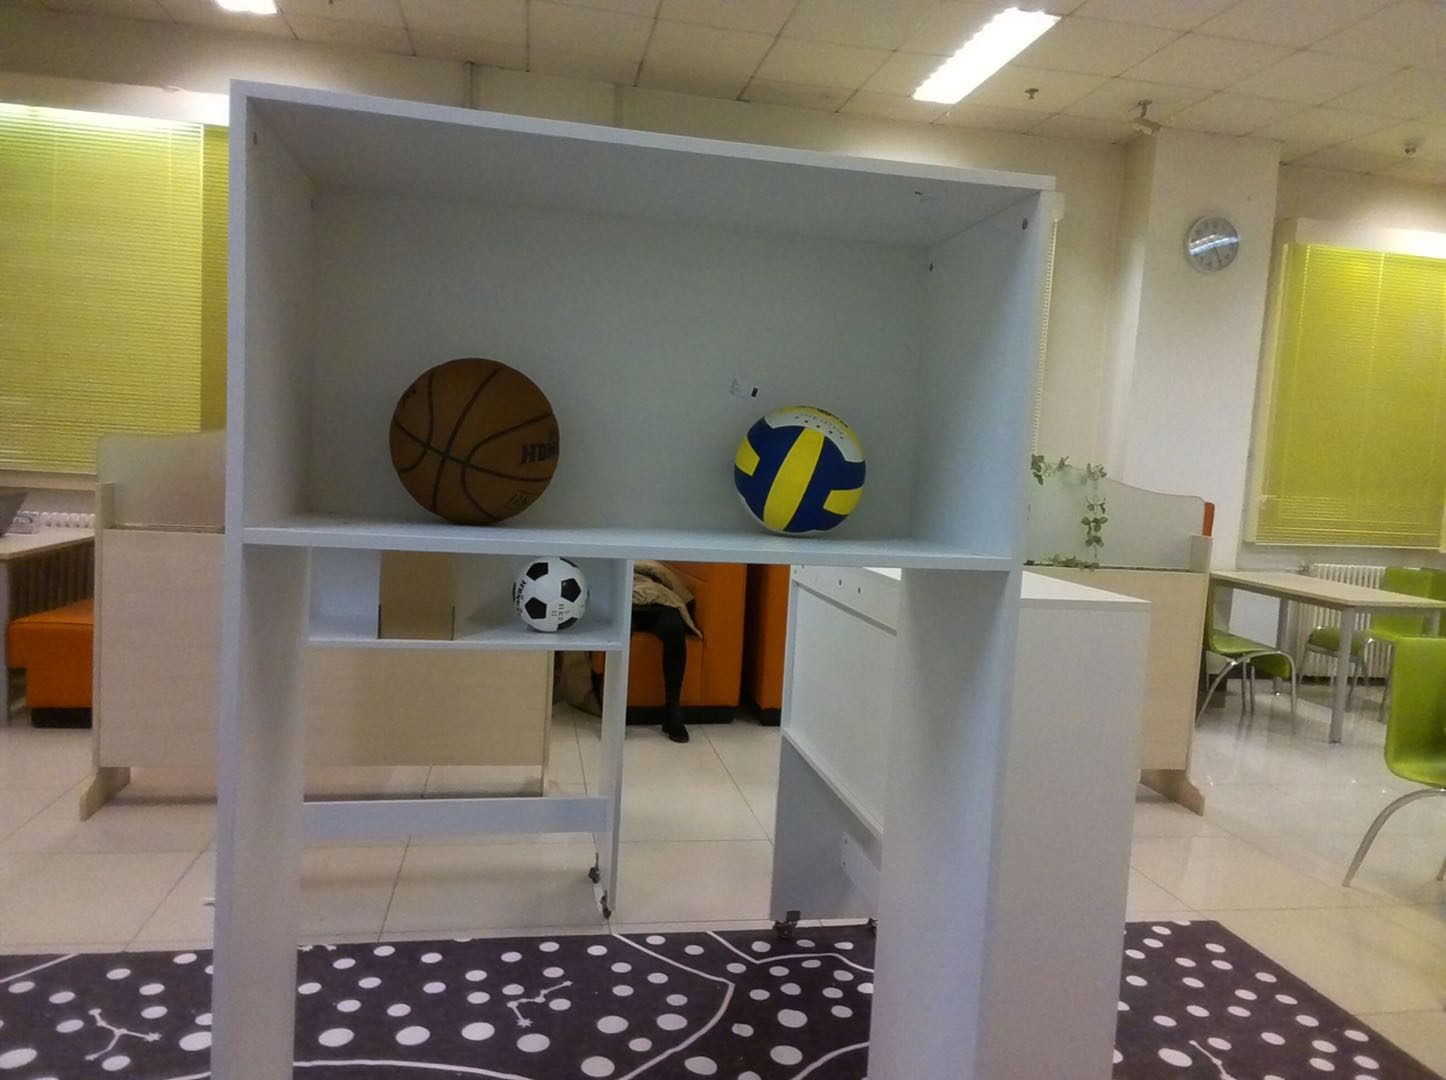basketball: (379, 354, 555, 526)
football: (513, 554, 601, 634)
volleyball: (729, 398, 876, 542)
